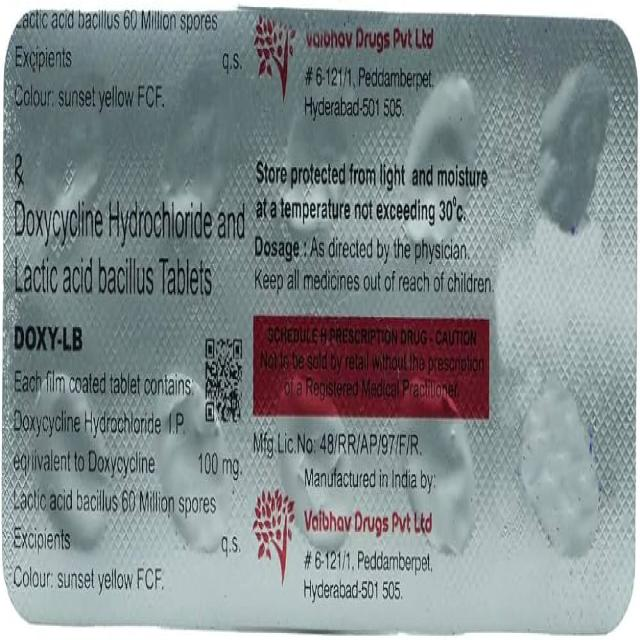Medicine-name: (13, 195, 251, 306)
